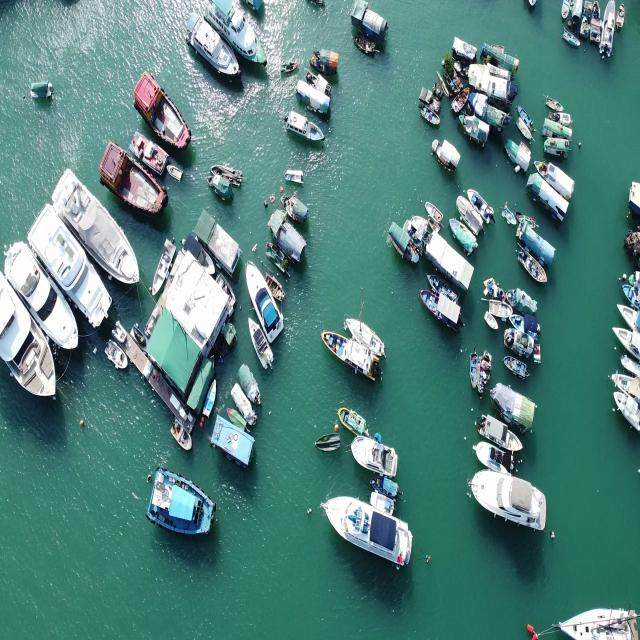ship: (30, 209, 95, 327), (324, 491, 414, 565), (140, 463, 218, 535), (90, 141, 166, 214), (470, 473, 552, 539), (130, 62, 192, 138), (179, 12, 241, 80), (205, 5, 268, 63), (553, 605, 636, 637), (475, 416, 527, 455), (279, 114, 328, 150), (344, 312, 386, 353), (152, 230, 178, 294), (247, 318, 277, 371), (516, 248, 550, 291), (468, 441, 518, 470), (427, 138, 462, 178), (240, 362, 264, 408), (236, 388, 262, 427), (337, 408, 374, 434), (212, 159, 245, 187), (310, 45, 340, 75), (502, 354, 532, 384), (170, 417, 193, 454), (419, 193, 444, 227), (312, 426, 343, 452), (103, 342, 127, 374), (367, 492, 402, 513), (165, 162, 188, 186), (277, 165, 309, 182), (29, 79, 56, 97), (516, 116, 535, 141), (562, 29, 580, 52), (484, 309, 498, 332)
